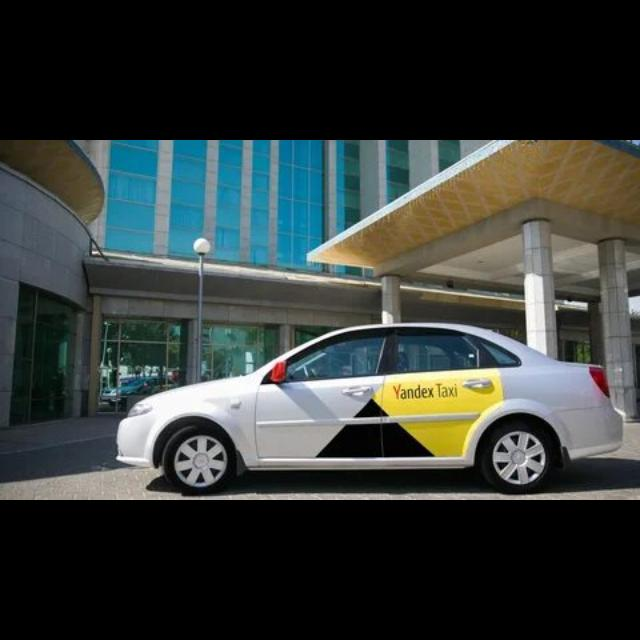taxi: (116, 321, 625, 495)
